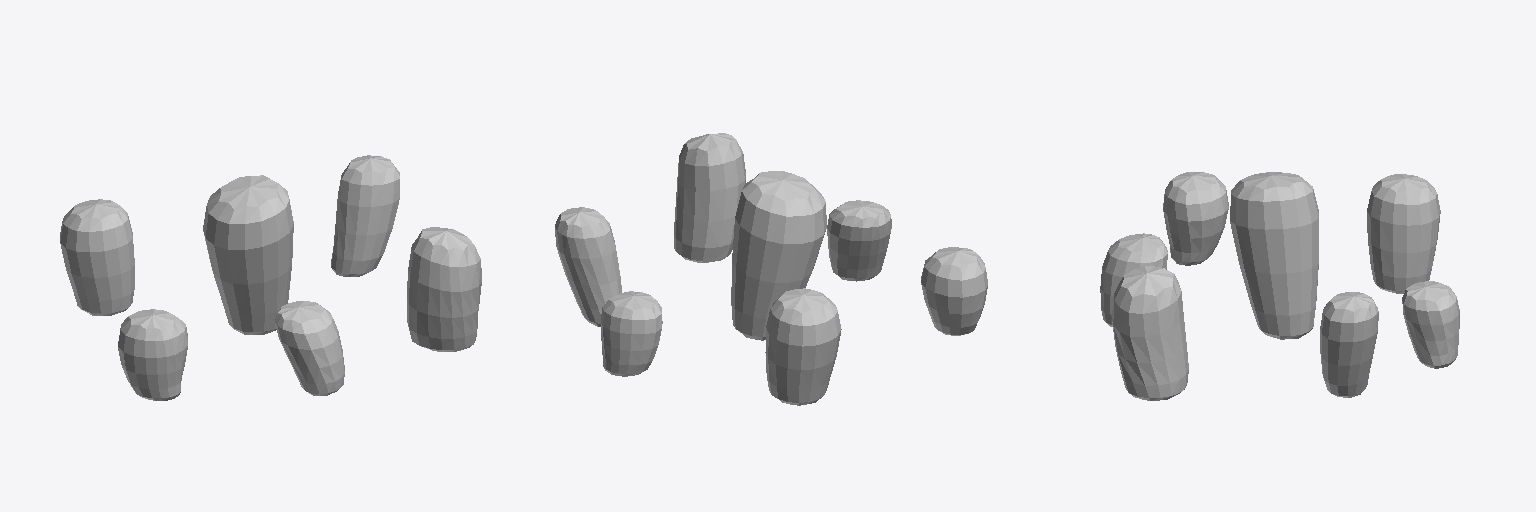
The model's file is Anemone_B_01_LOD0.obj.
The picture shows the model from 3 angles: view 1: azimuth 30°, elevation 25°; view 2: azimuth 150°, elevation 25°; view 3: azimuth 270°, elevation 25°; orthographic projection.
Visible parts, largest first — view 1: Anemone_B_01_LOD0_Cube.513; view 2: Anemone_B_01_LOD0_Cube.513; view 3: Anemone_B_01_LOD0_Cube.513.
Part boxes in pixels (x1,y1,x2,y2): Anemone_B_01_LOD0_Cube.513: (60,155,481,400); Anemone_B_01_LOD0_Cube.513: (555,133,987,405); Anemone_B_01_LOD0_Cube.513: (1100,172,1459,400).
Bounding box in the file's own units: 6.02 × 2.48 × 5.35.